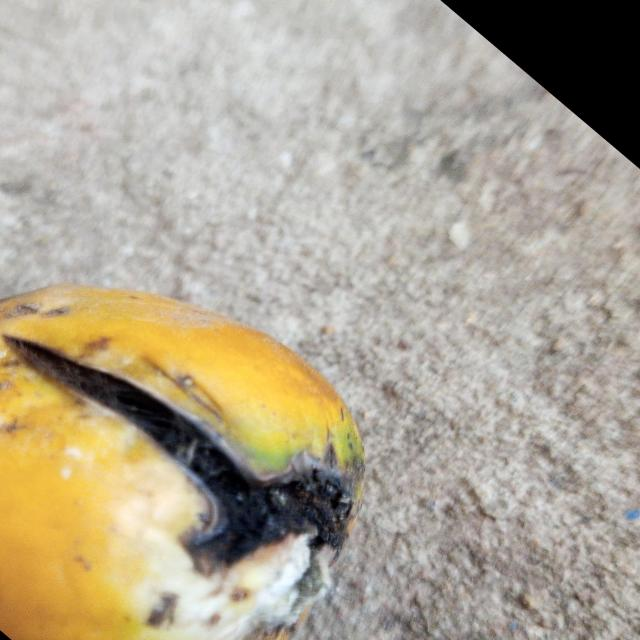damaged: (0, 286, 364, 640)
